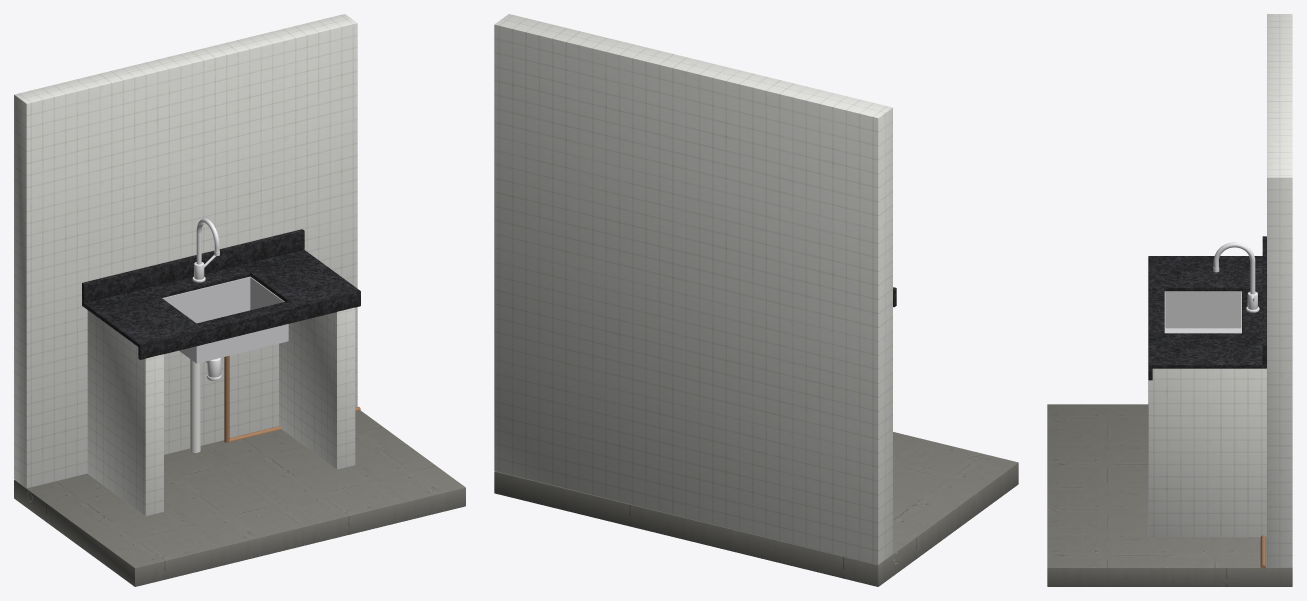
Rendered from KIT-HID-03_lod1.glb.
3 renders of one model, left to right at view 1: azimuth 30°, elevation 25°; view 2: azimuth 150°, elevation 25°; view 3: azimuth 270°, elevation 25°, orthographic. The views are drawn at different scales.
Visible parts, largest first — view 1: KIT-HID-03_parede, KIT-HID-03_laje, KIT-HID-03_p0, KIT-HID-03_apoio-1, KIT-HID-03_apoio1, KIT-HID-03_esg50_sobe; view 2: KIT-HID-03_parede, KIT-HID-03_laje; view 3: KIT-HID-03_laje, KIT-HID-03_apoio1, KIT-HID-03_parede, KIT-HID-03_p0.
Boxes of the visible parts, <box> form: KIT-HID-03_parede: <box>14,14,357,488</box>; KIT-HID-03_laje: <box>14,410,465,586</box>; KIT-HID-03_p0: <box>82,218,360,363</box>; KIT-HID-03_apoio-1: <box>87,310,163,516</box>; KIT-HID-03_apoio1: <box>279,299,355,469</box>; KIT-HID-03_esg50_sobe: <box>190,359,200,452</box>; KIT-HID-03_parede: <box>494,14,892,564</box>; KIT-HID-03_laje: <box>494,432,1018,586</box>; KIT-HID-03_laje: <box>1047,404,1292,586</box>; KIT-HID-03_apoio1: <box>1148,368,1266,537</box>; KIT-HID-03_parede: <box>1267,14,1292,567</box>; KIT-HID-03_p0: <box>1148,236,1266,380</box>.
Bounding box in the file's own units: 1.8 × 2.1 × 1.14.
Materials: 7 (3 with a texture image).
